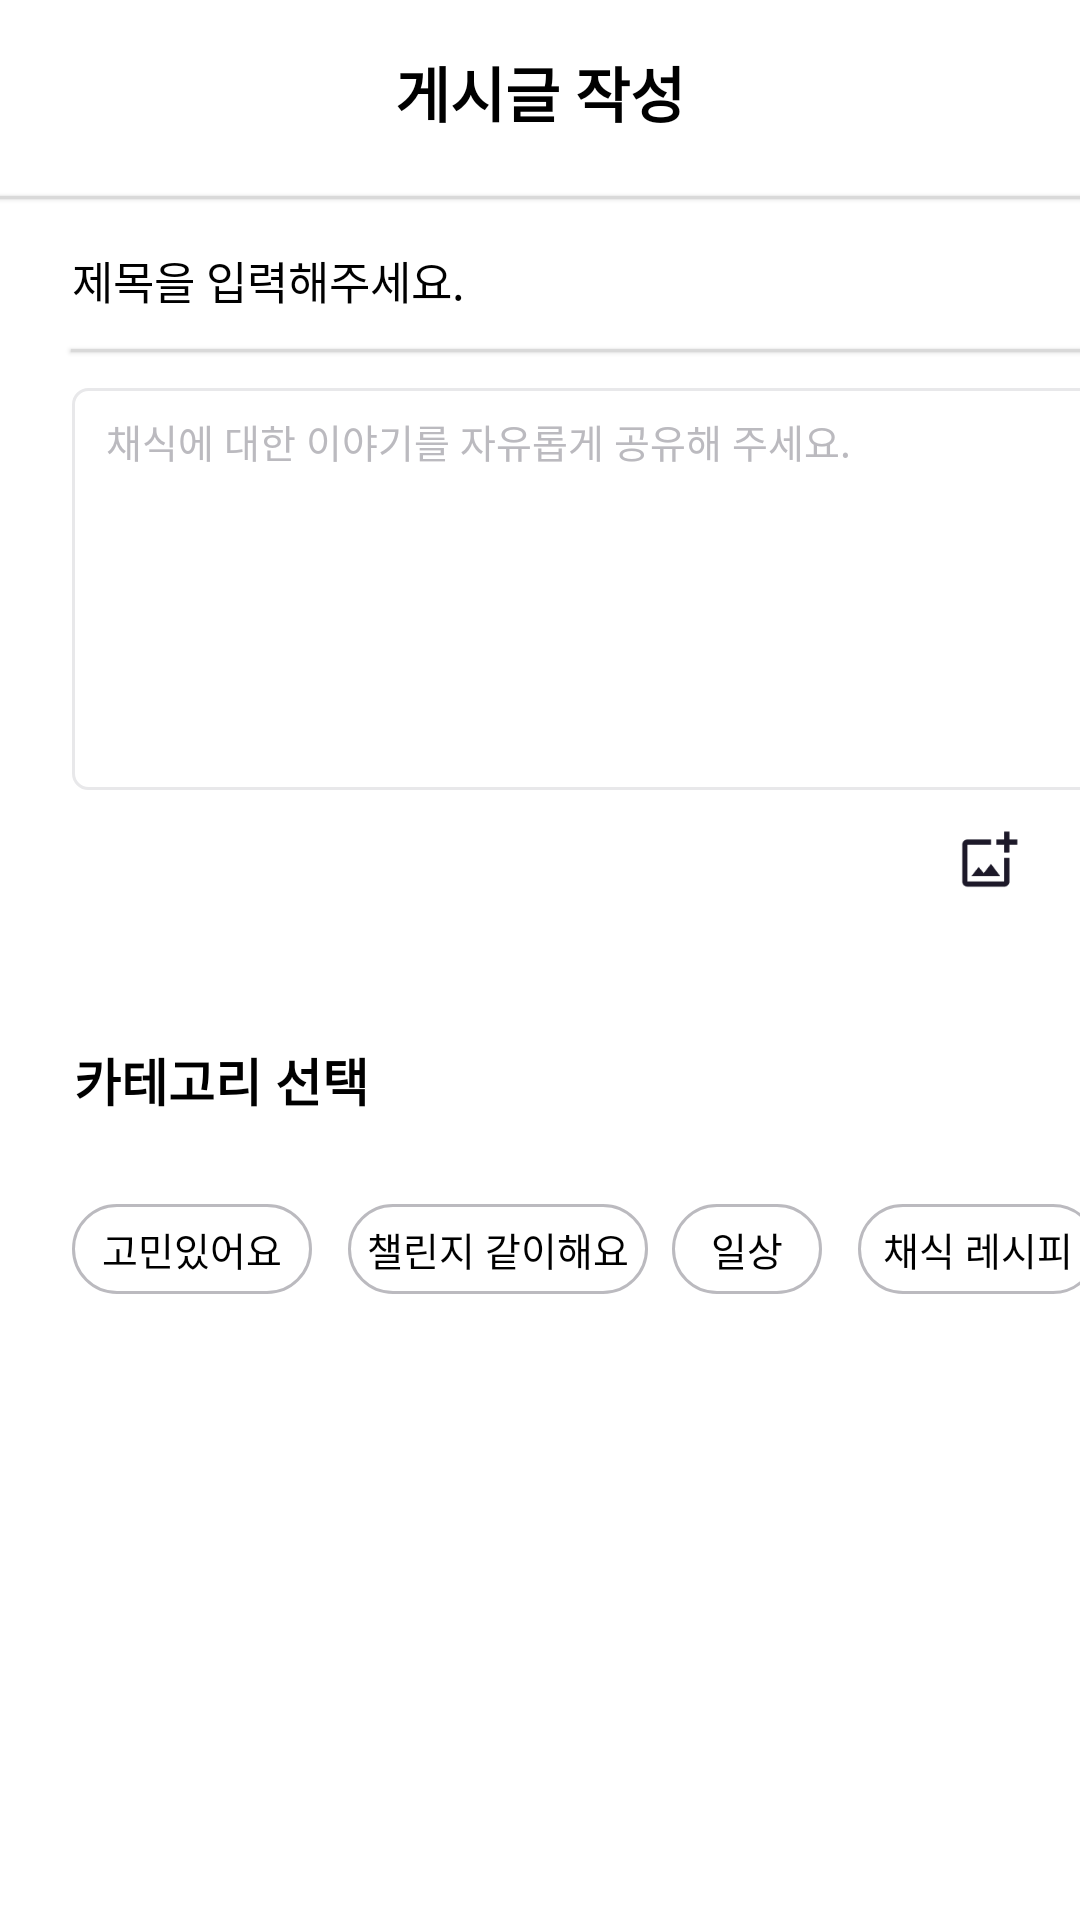

Icon bounding boxes for this 1080×1920 phone screenshot, format (x1, y1, x2, y2):
add photo: (962, 831, 1018, 887)
